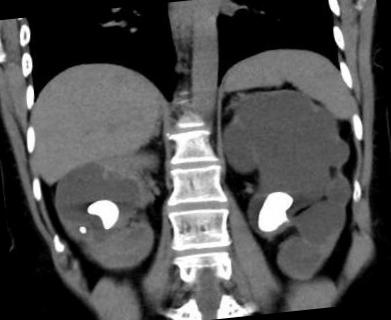Tas_Var: (252, 188, 299, 235), (85, 196, 124, 234), (76, 222, 88, 236)
